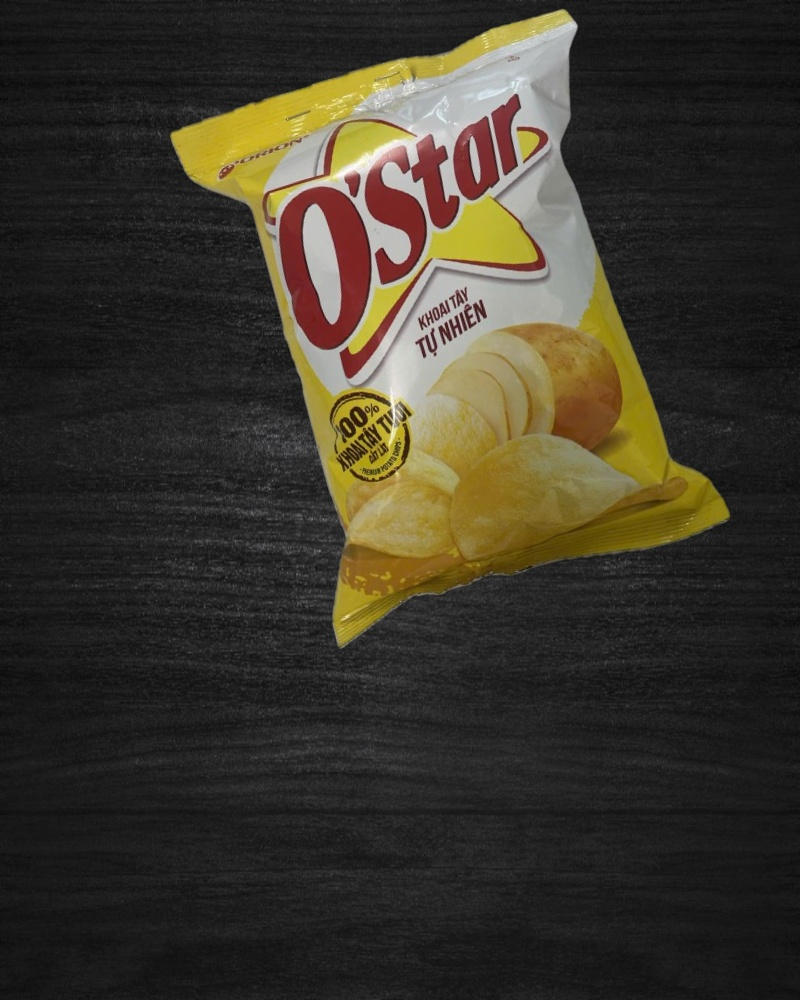O'star: (166, 1, 738, 657)
